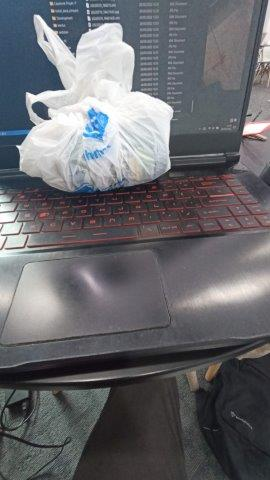plastik: (16, 15, 173, 192)
